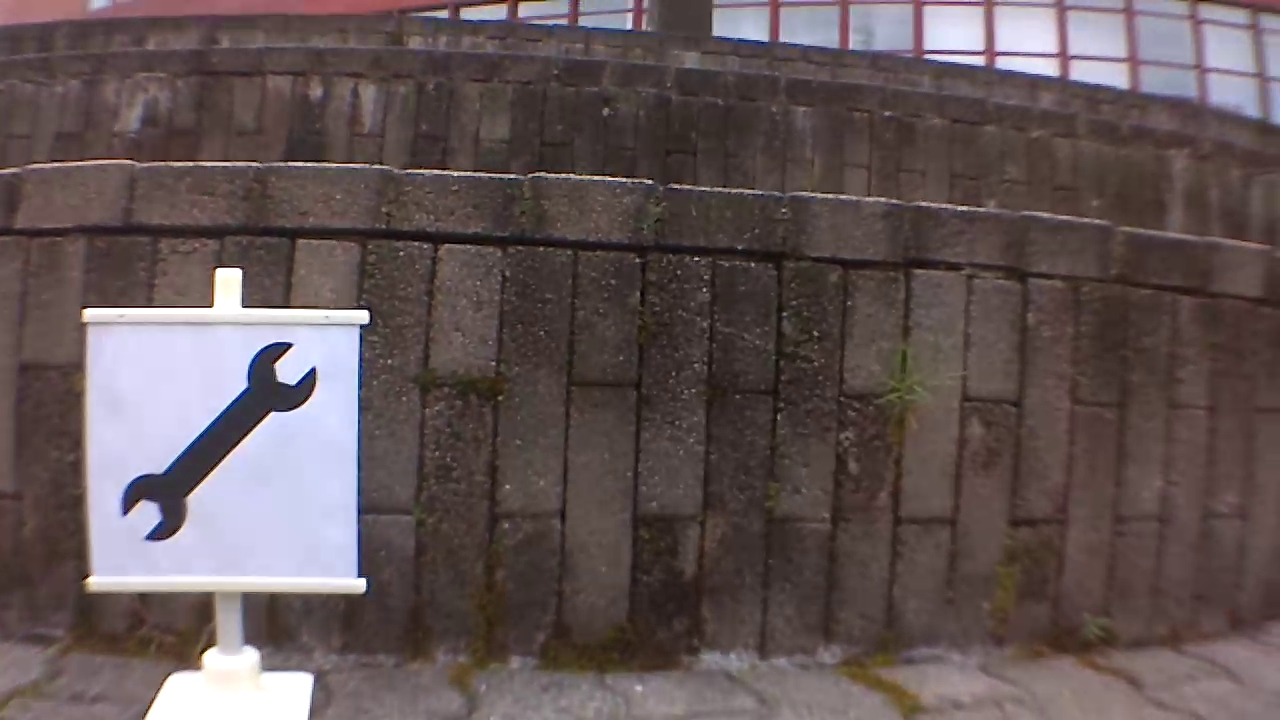wrench: (114, 340, 321, 544)
